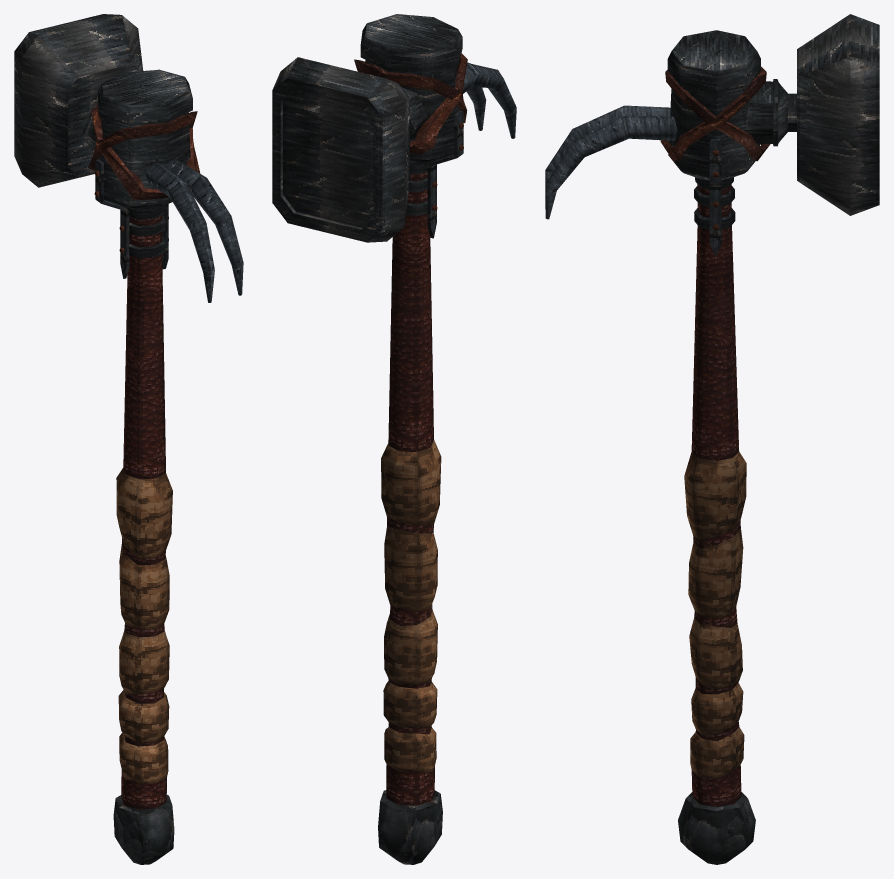
File: coffin_hammer.glb
The picture shows the model from 3 angles, left to right: view 1: azimuth 30°, elevation 25°; view 2: azimuth 150°, elevation 25°; view 3: azimuth 270°, elevation 25°; orthographic projection. The views are drawn at different scales.
Visible parts, largest first — view 1: coffin_hammer; view 2: coffin_hammer; view 3: coffin_hammer.
Boxes of the visible parts, bbox=[...] form: coffin_hammer: bbox=[14, 14, 243, 864]; coffin_hammer: bbox=[272, 14, 516, 864]; coffin_hammer: bbox=[545, 14, 879, 864].
Size of the model in its own units: 0.1027 by 0.6662 by 0.2449.
Materials: 1 (1 with a texture image).
